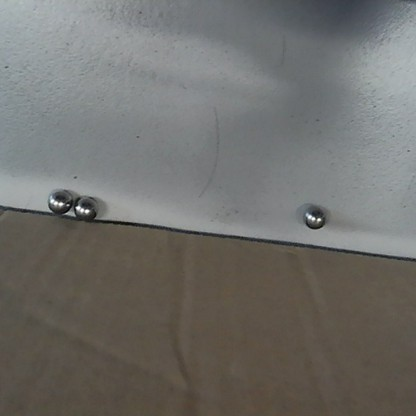ironball: (70, 192, 99, 224), (46, 185, 72, 216), (300, 202, 327, 231)
